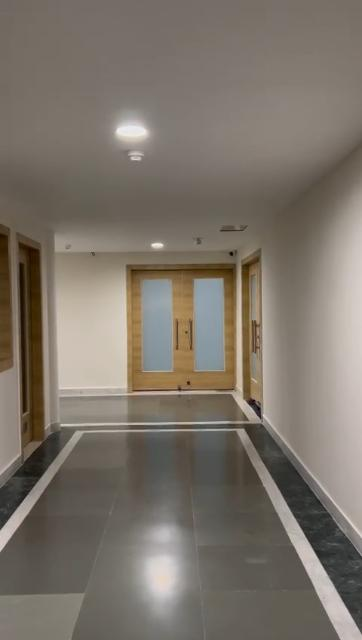door: (127, 266, 233, 390), (18, 232, 42, 440), (244, 264, 260, 400)
floor: (0, 393, 362, 640)
wall: (267, 157, 358, 518), (52, 253, 124, 389), (1, 380, 17, 458)
